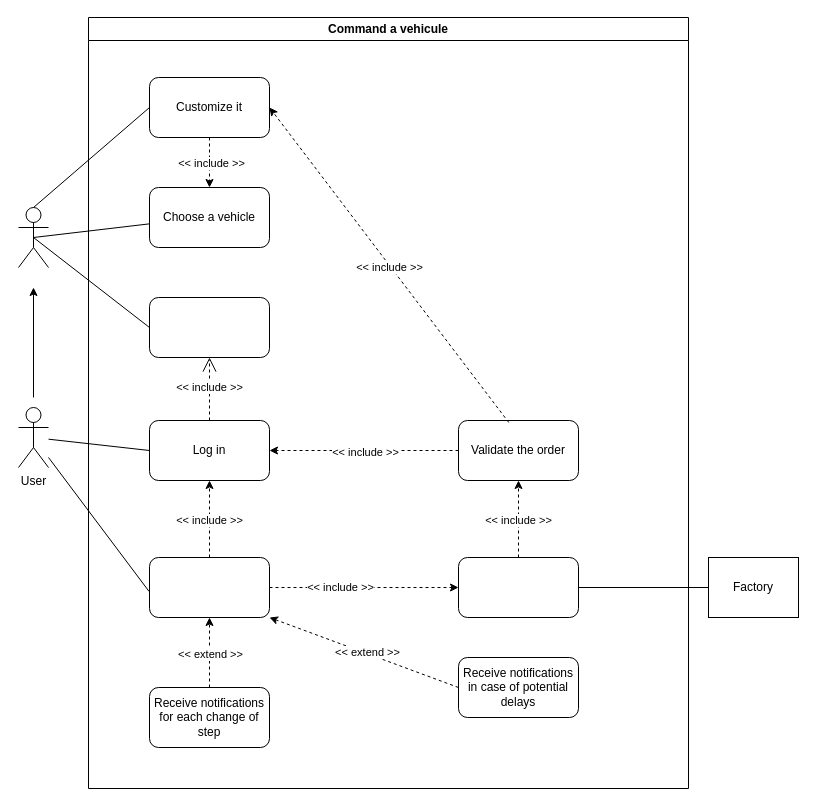
The diagram is 816 pixels wide and 806 high, and some of its shapes have lost their labels. Each missing label, with the centre of its shape:
Put into production: point (518, 587)
Sign up: point (209, 327)
Track the progress of the order: point (209, 587)
Visitor: point (33, 237)
